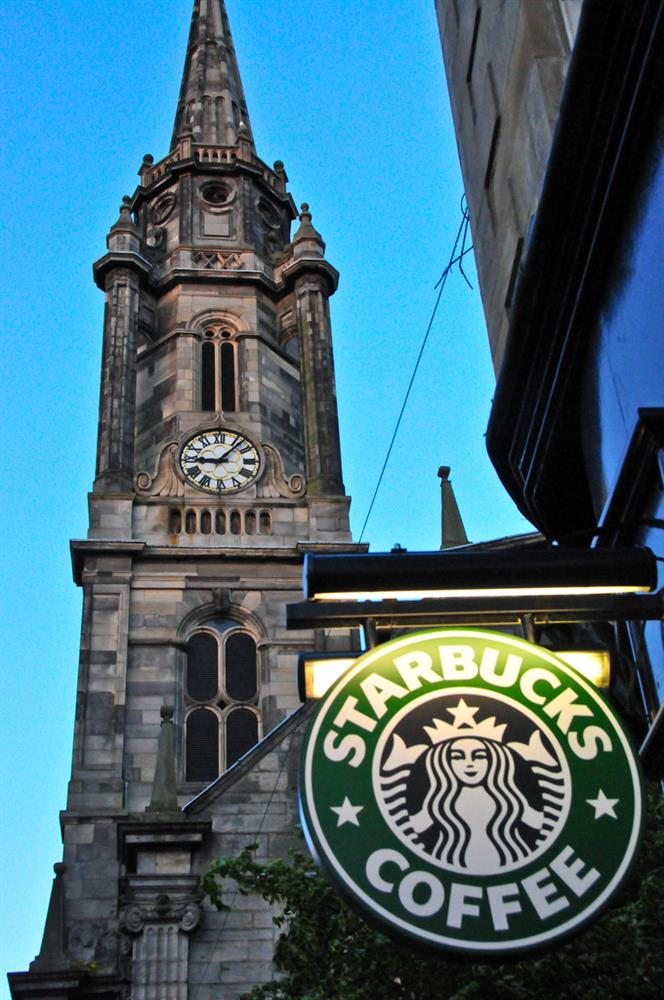starbucks: (301, 619, 645, 960)
